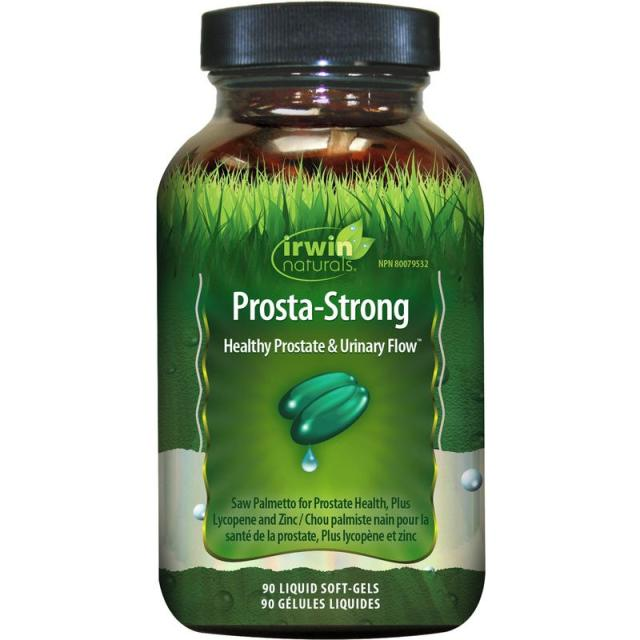medicine: (176, 139, 469, 624)
